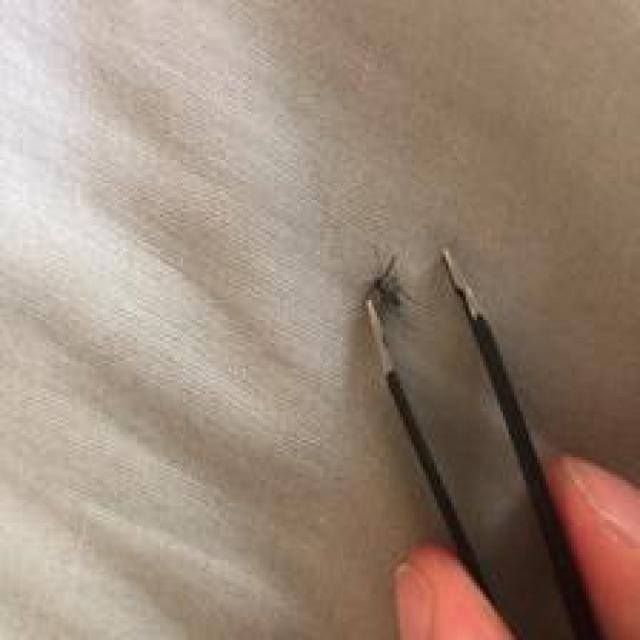Aedes albopictus: (361, 245, 632, 640)
